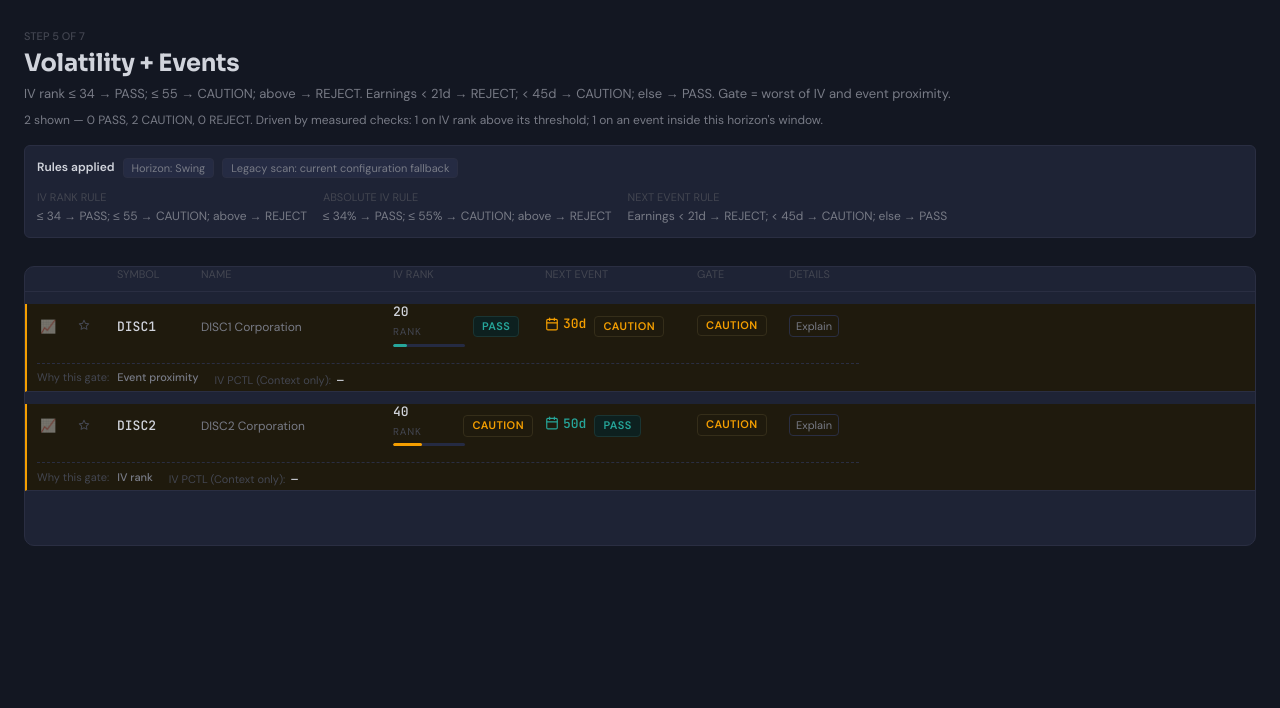
it: AC6: Disclosure interaction, keyboard accessibility, and state isolation › Toggling disclosure updates aria-expanded, aria-controls, and panel visibility
Note: Click to open row 1
Click the button "Explain" in the row of "DISC1 Corporation" at (814, 326), box [789,315,839,337]
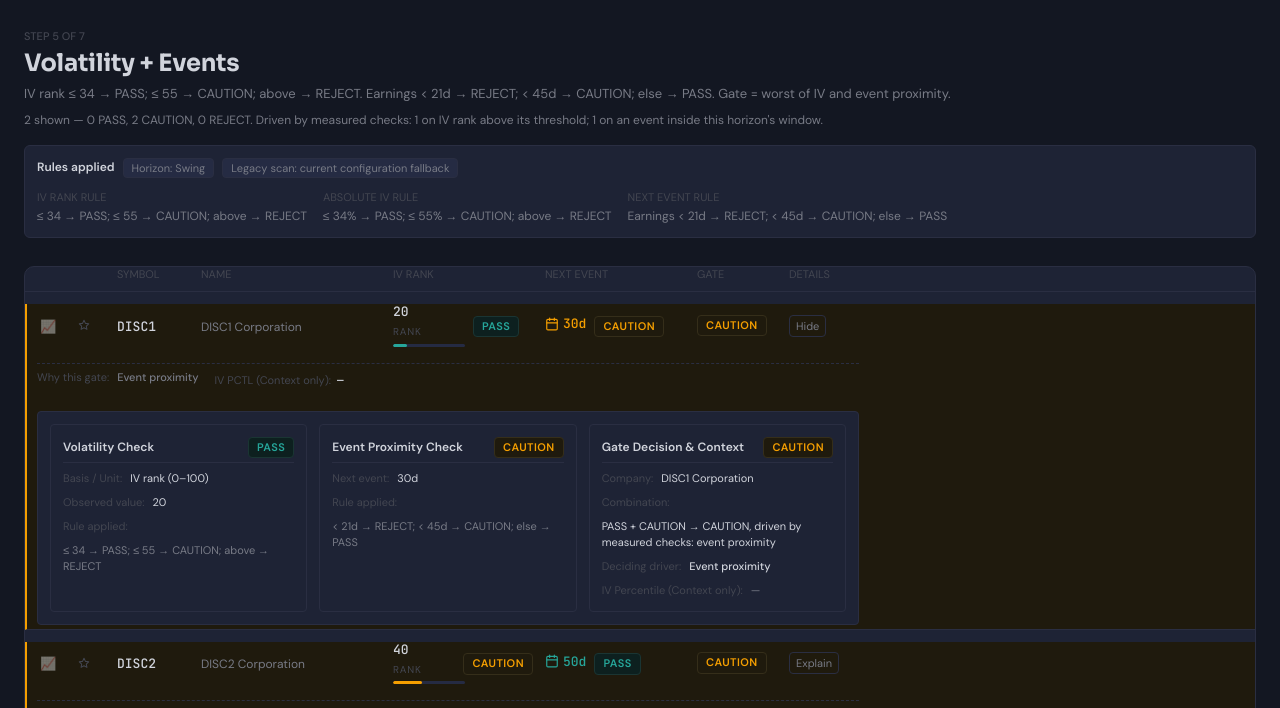
Expected: the button "Hide" is expanded
Expected: the button "Hide" is shown
Expected: the element named "Gate details for DISC1" is shown, [37,411,859,625]
Note: Click again to close row 1
Click the button "Hide" at (808, 326), box [789,315,826,337]
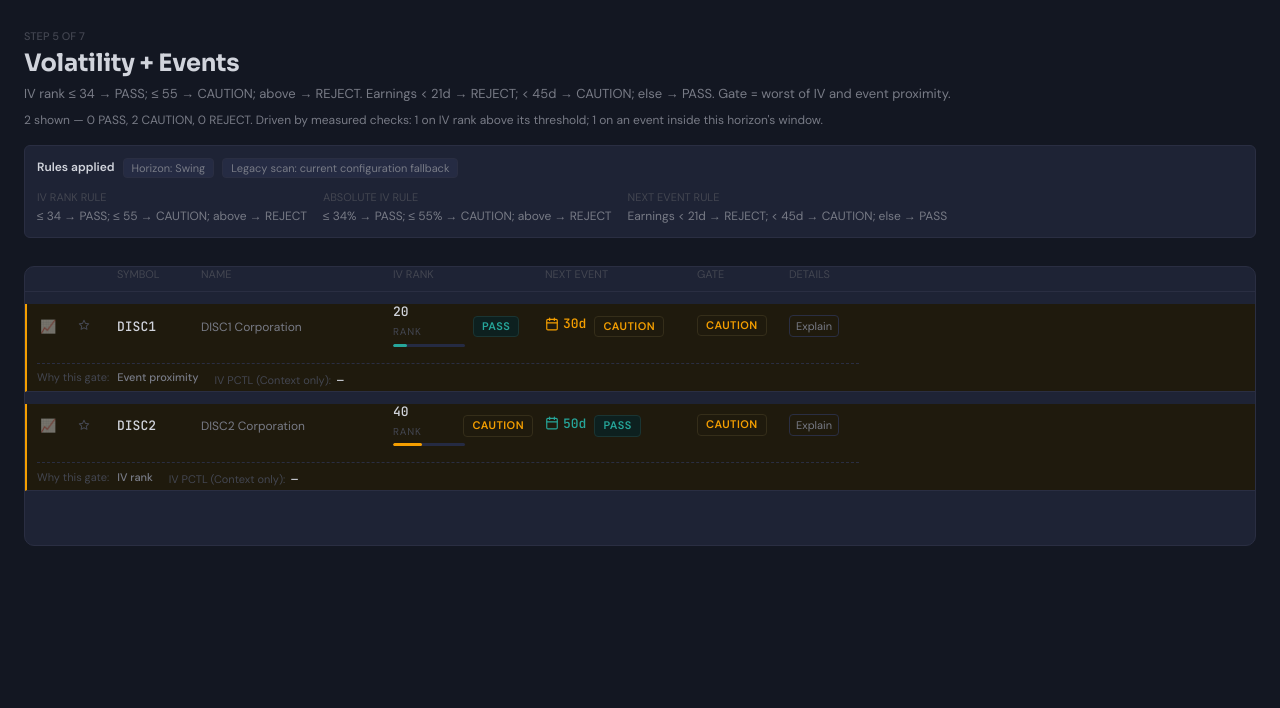
Expected: the button "Explain" in the row of "DISC1 Corporation" is collapsed, [789,315,839,337]
Expected: the button "Explain" in the row of "DISC1 Corporation" is shown, [789,315,839,337]
Expected: the button "Explain" in the row of "DISC1 Corporation" has attribute aria-expanded, [789,315,839,337]
